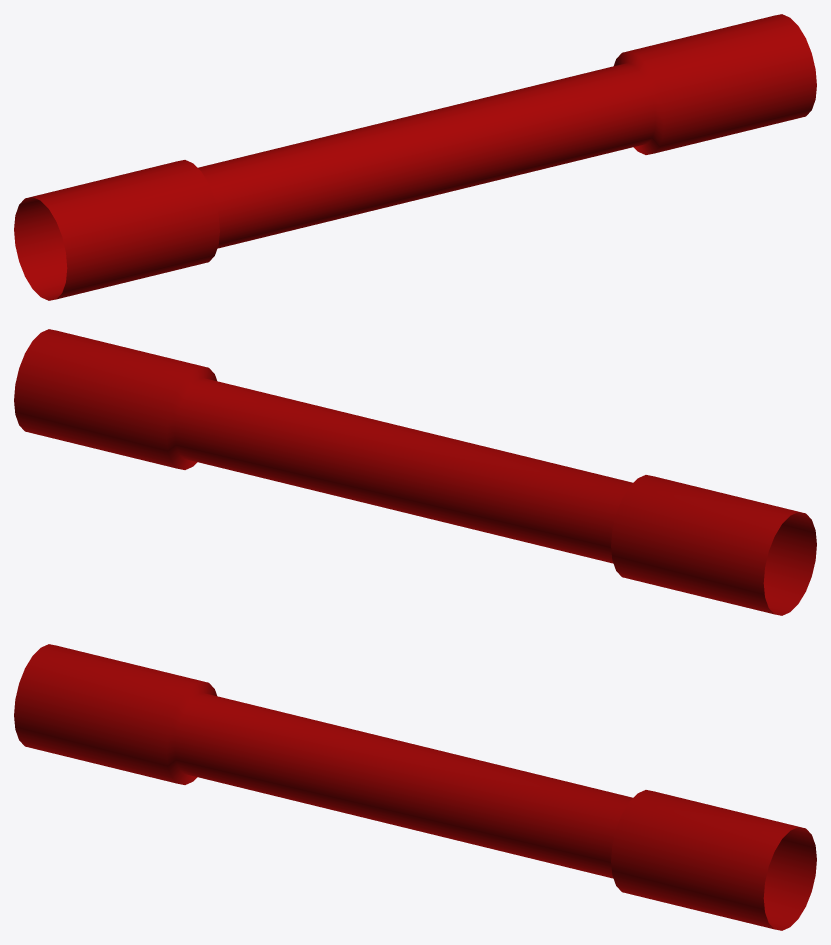
Rendered from truba.FBX.
3 renders of one model, top to bottom at view 1: azimuth 30°, elevation 25°; view 2: azimuth 150°, elevation 25°; view 3: azimuth 330°, elevation 25°, orthographic.
Visible parts, largest first — view 1: Cylinder001; view 2: Cylinder001; view 3: Cylinder001.
Part boxes in pixels (x1=…): Cylinder001: x1=14, y1=14, x2=816, y2=300; Cylinder001: x1=14, y1=329, x2=816, y2=615; Cylinder001: x1=14, y1=644, x2=816, y2=930.
Size of the model in its own units: 320 by 39.32 by 39.32.
